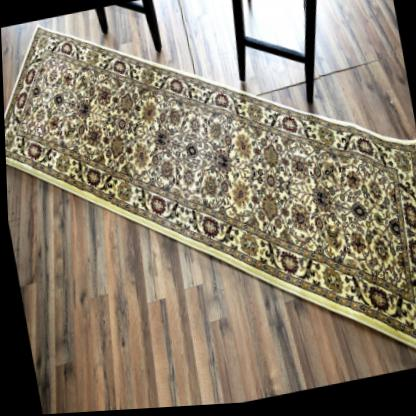Carpet: (4, 20, 416, 348)
